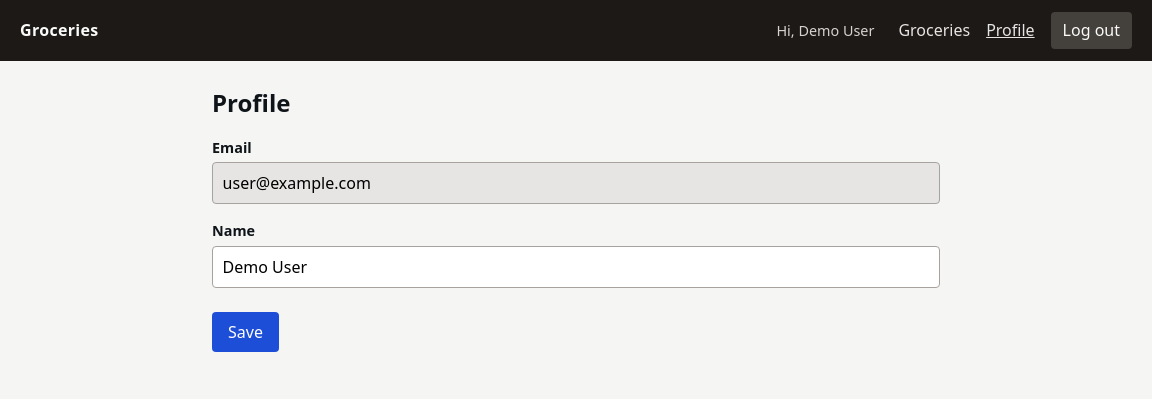
Test: ProfilePage › shows success and updated name after save
Expected: the heading "Profile" is shown, [212,86,290,119]
Replace the text in the field labelled "Name" with "Revised User" at (576, 267), box [212,246,940,288]
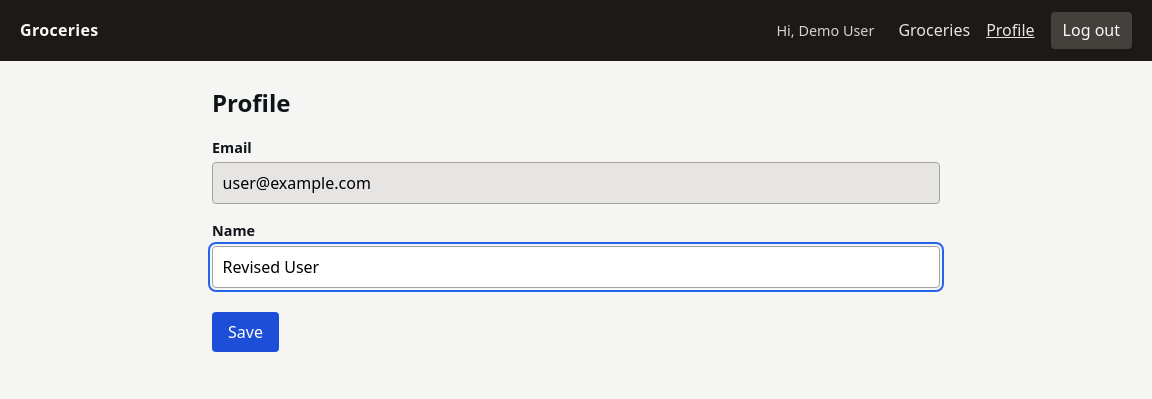
Click the button "Save" at (245, 332), box [212,312,279,352]
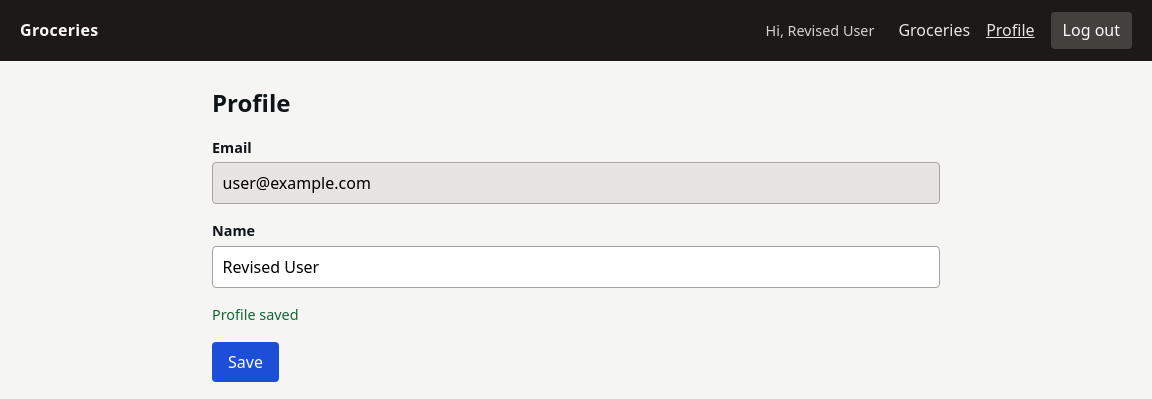
Result: the text "Profile saved" is shown at [212,305,298,324]
